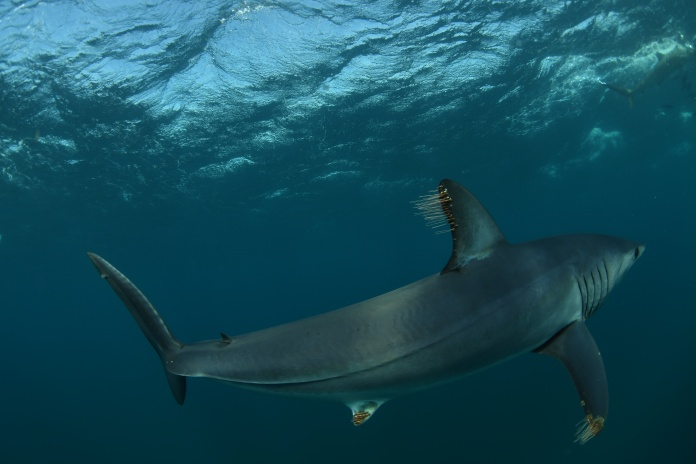Mako: (70, 175, 649, 449)
